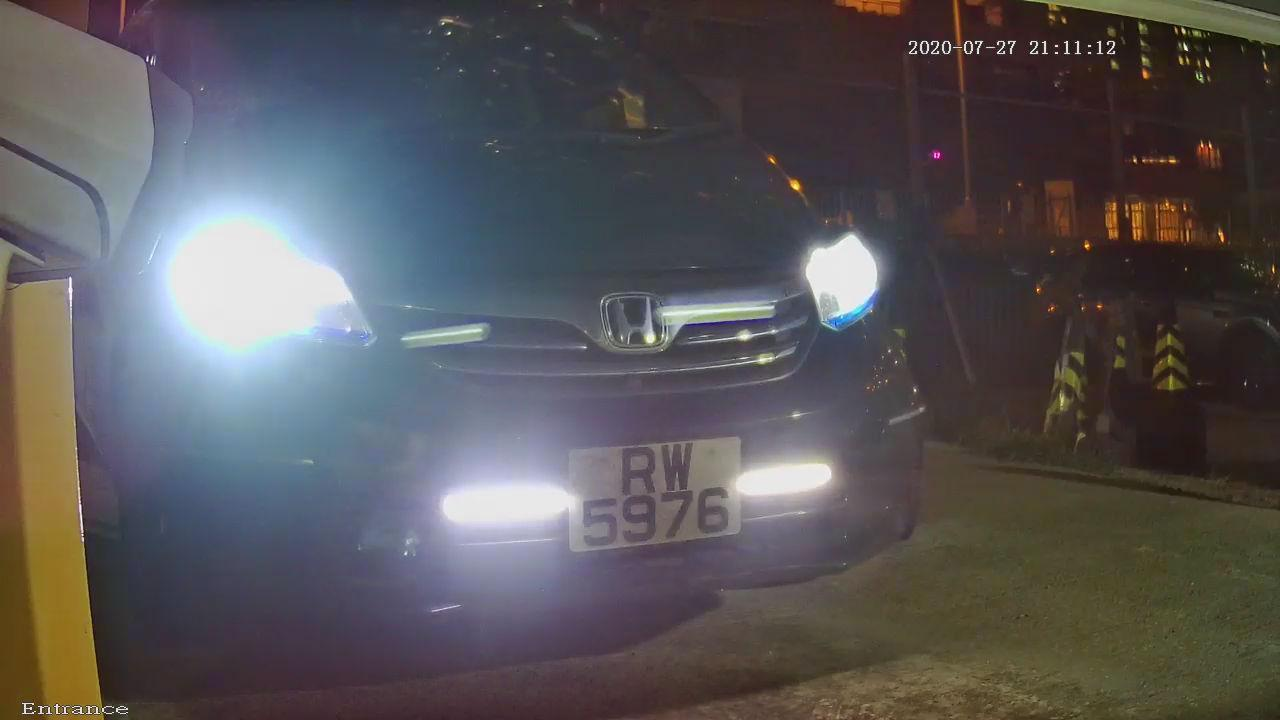privatecar: (81, 1, 972, 666)
